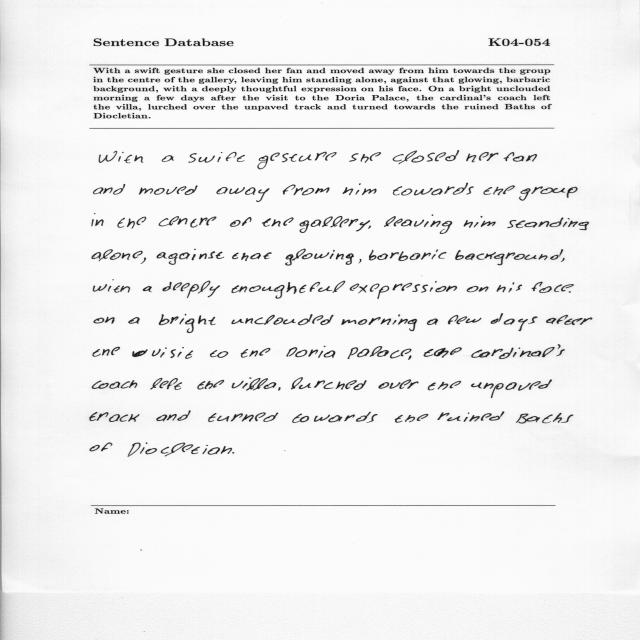word: (231, 281, 345, 299), (350, 281, 457, 299), (455, 249, 563, 265), (471, 380, 552, 398), (128, 443, 232, 457), (257, 152, 337, 169), (384, 214, 452, 234), (471, 345, 565, 359), (341, 315, 417, 332), (300, 216, 370, 233), (285, 249, 354, 266), (232, 314, 334, 325), (159, 314, 216, 333), (157, 249, 224, 265), (507, 218, 589, 231), (162, 281, 220, 298), (393, 183, 474, 195), (292, 412, 378, 423), (291, 378, 367, 390), (519, 186, 577, 201), (393, 151, 459, 164), (369, 250, 446, 261), (348, 346, 412, 359), (491, 314, 538, 331), (217, 187, 270, 202), (438, 411, 505, 422), (132, 347, 193, 359), (208, 412, 278, 422), (159, 216, 217, 227), (188, 152, 245, 163), (92, 250, 143, 262), (287, 346, 336, 358), (232, 378, 277, 391), (139, 186, 197, 196), (516, 413, 573, 423), (99, 151, 143, 163), (283, 185, 329, 196), (90, 412, 140, 422), (531, 282, 574, 293), (546, 315, 593, 325), (424, 347, 462, 358), (378, 379, 419, 389), (343, 184, 377, 196), (93, 380, 138, 389), (464, 216, 496, 228), (150, 378, 182, 390), (232, 252, 272, 261), (349, 152, 381, 163), (94, 184, 126, 195), (156, 411, 191, 421), (93, 284, 130, 293), (466, 152, 499, 162), (504, 152, 537, 162), (483, 186, 515, 196), (118, 217, 147, 228), (448, 315, 481, 324), (428, 381, 461, 390), (395, 414, 428, 423), (241, 348, 270, 358), (262, 218, 294, 227), (93, 347, 120, 357), (197, 380, 224, 390), (497, 283, 522, 293), (230, 217, 251, 227), (90, 443, 112, 451), (94, 317, 115, 324), (210, 350, 228, 358), (92, 214, 103, 227), (467, 286, 489, 292), (162, 155, 174, 162), (128, 317, 140, 324), (427, 318, 438, 325), (143, 286, 152, 292), (141, 257, 146, 264), (561, 258, 565, 262), (359, 259, 362, 264), (408, 355, 411, 360), (368, 225, 371, 229), (278, 387, 281, 391), (568, 291, 571, 293), (232, 452, 234, 454)
